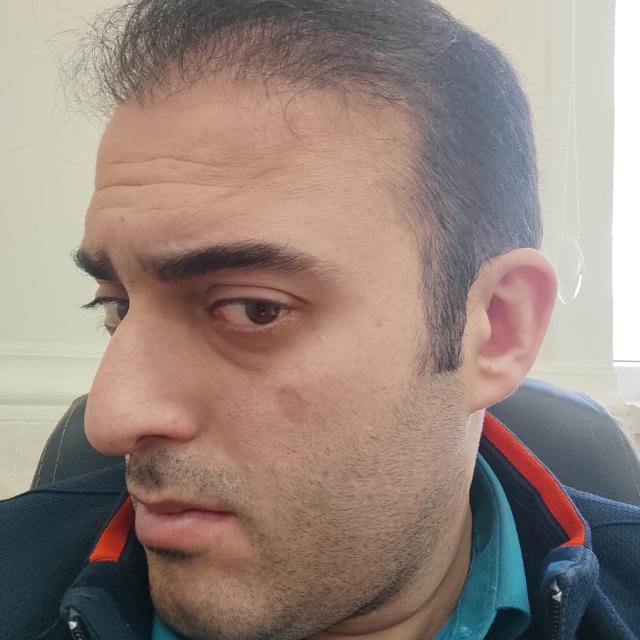forehead: (98, 158, 142, 204), (148, 171, 218, 197), (150, 146, 218, 172)
